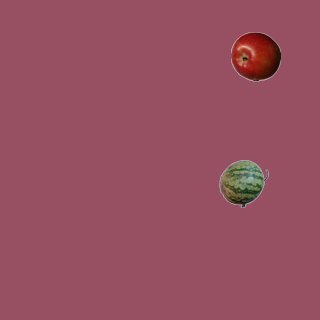Apple Braeburn: (230, 31, 280, 81)
Watermelon: (218, 158, 268, 208)
